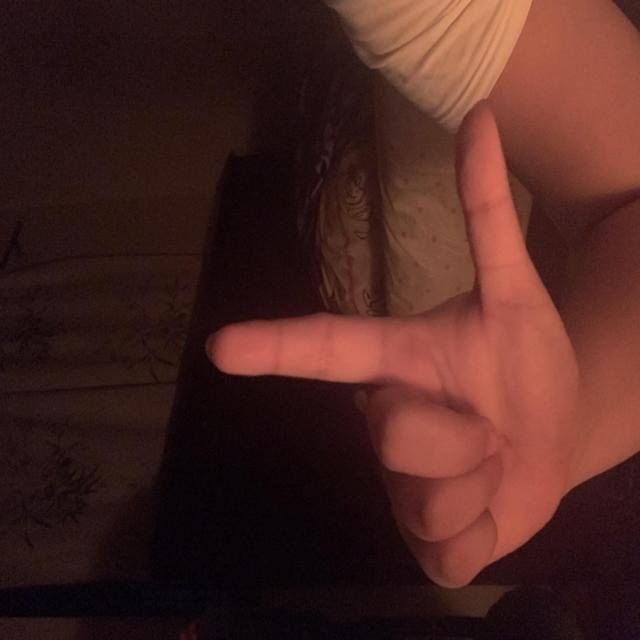L: (93, 206, 592, 580)
